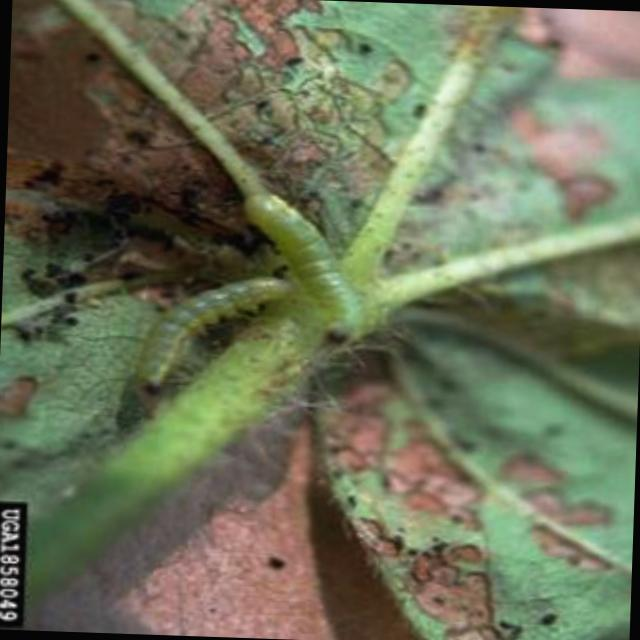Beet armyworm: (234, 144, 386, 363), (117, 258, 286, 410)
